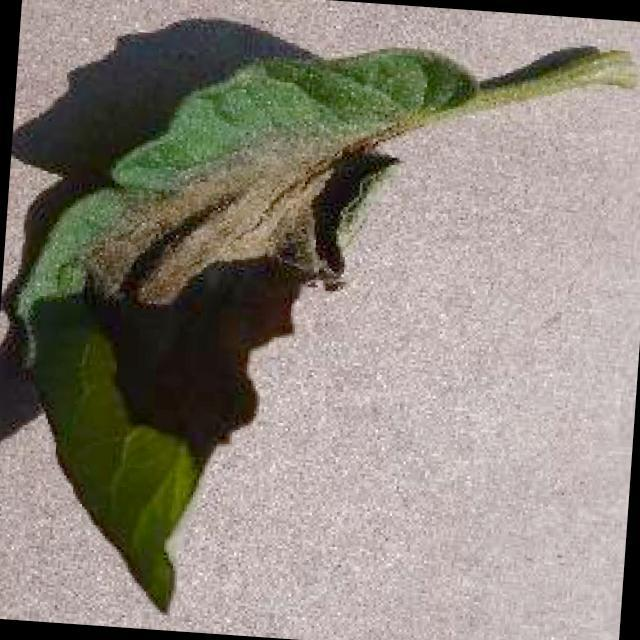Tomato late blight leaf: (0, 21, 488, 636)
